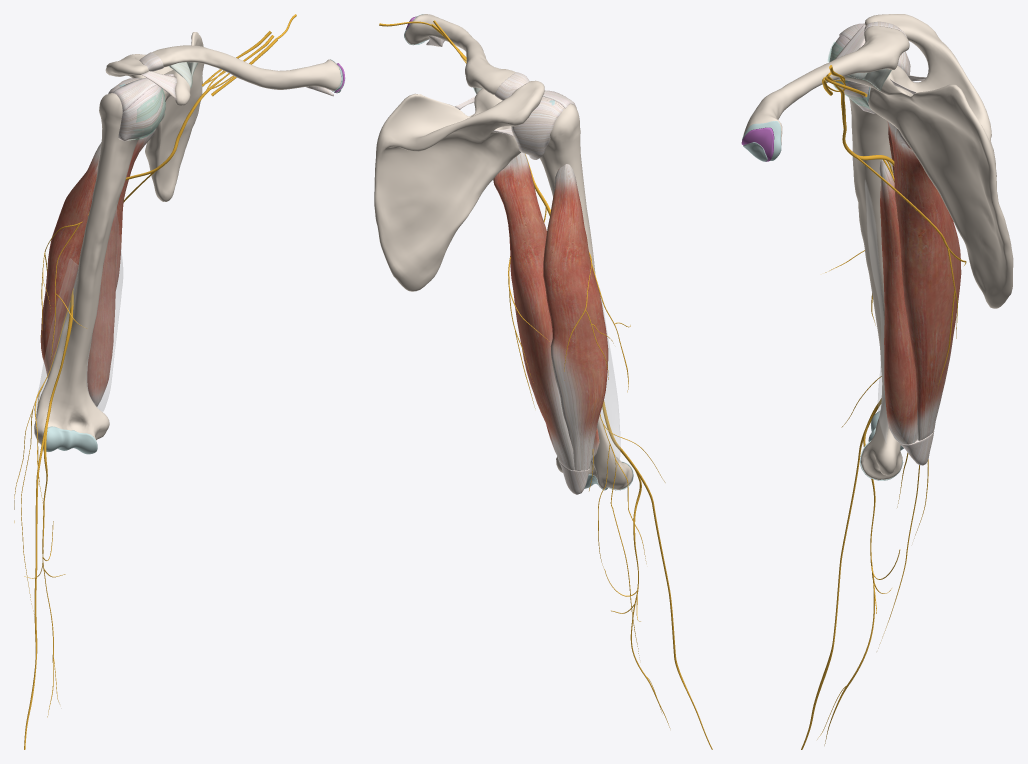
File: open3dmodel-radial-nerve.glb
3 renders of one model, left to right at view 1: azimuth 30°, elevation 25°; view 2: azimuth 150°, elevation 25°; view 3: azimuth 270°, elevation 25°, orthographic. The views are drawn at different scales.
Parts seen in each view (by area): view 1: Humerus.r, Lateral head of triceps brachii.r, Scapula.r, Medial intermuscular septum of arm.r, Clavicle.r, Medial head of triceps brachii.r, Articular capsule of glenohumeral joint.r, Lateral intermuscular septum of arm.r, Art cart of humerus distal end.r, Radial nerve (superficial br).r, Long head of triceps brachii.r, Coracohumeral ligament.r (+2 smaller); view 2: Scapula.r, Lateral head of triceps brachii.r, Long head of triceps brachii.r, Humerus.r, Clavicle.r, Articular capsule of glenohumeral joint.r, Lateral intermuscular septum of arm.r, Radial nerve (superficial br).r, Radial nerve (posterior antebrachial cutaneous n).r; view 3: Scapula.r, Long head of triceps brachii.r, Humerus.r, Medial head of triceps brachii.r, Clavicle.r, Medial intermuscular septum of arm.r, Articular capsule of glenohumeral joint.r, Radial nerve (superficial br).r, Radial nerve (posterior brachial cutaneous n).r, Art disc of steroclavicular joint.r, Radial nerve (posterior interosseus n).r, Common tendon of triceps brachii.r (+2 smaller).
Part boxes in pixels (x1,y1,x2,y2): Humerus.r: (34,93,139,448); Lateral head of triceps brachii.r: (40,142,101,378); Scapula.r: (105,32,204,201); Medial intermuscular septum of arm.r: (86,213,122,411); Clavicle.r: (152,45,341,90); Medial head of triceps brachii.r: (87,208,117,406); Articular capsule of glenohumeral joint.r: (108,78,165,141); Lateral intermuscular septum of arm.r: (34,258,78,414); Art cart of humerus distal end.r: (43,426,97,454); Radial nerve (superficial br).r: (24,408,50,749); Long head of triceps brachii.r: (115,128,155,290); Coracohumeral ligament.r: (112,74,173,111); Scapula.r: (374,80,544,291); Lateral head of triceps brachii.r: (543,164,608,470); Long head of triceps brachii.r: (493,152,574,470); Humerus.r: (540,104,632,489); Clavicle.r: (404,14,515,94); Articular capsule of glenohumeral joint.r: (511,96,564,159); Lateral intermuscular septum of arm.r: (599,288,620,465); Radial nerve (superficial br).r: (617,446,712,749); Radial nerve (posterior antebrachial cutaneous n).r: (598,414,665,657); Scapula.r: (837,14,1013,308); Long head of triceps brachii.r: (887,121,961,440); Humerus.r: (849,98,902,479); Medial head of triceps brachii.r: (879,159,917,444); Clavicle.r: (743,26,909,144); Medial intermuscular septum of arm.r: (865,180,887,443); Articular capsule of glenohumeral joint.r: (829,35,910,113); Radial nerve (superficial br).r: (801,398,881,749); Radial nerve (posterior brachial cutaneous n).r: (857,156,966,384); Art disc of steroclavicular joint.r: (741,127,774,161); Radial nerve (posterior interosseus n).r: (817,549,900,745); Common tendon of triceps brachii.r: (899,430,934,465).
Bounding box in the file's own units: 0.2826 × 0.569 × 0.1653.
13 materials, 4 textured.
